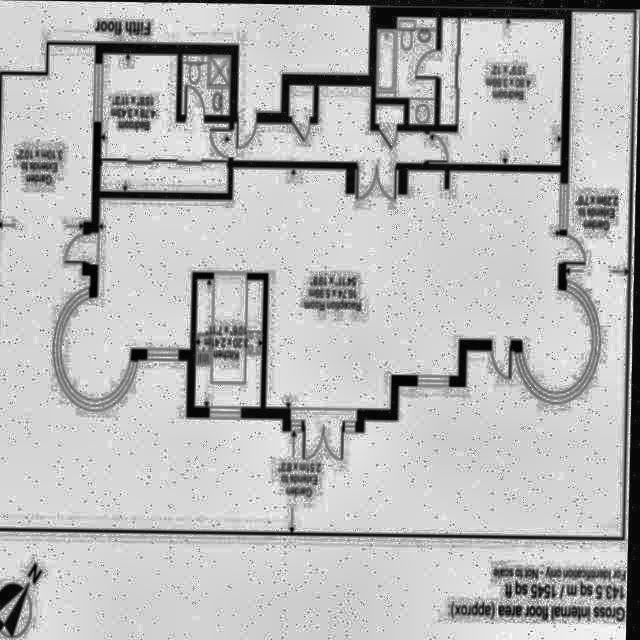room: (61, 163, 355, 420), (356, 161, 595, 408), (431, 15, 564, 164), (100, 52, 232, 193), (234, 81, 427, 163), (195, 279, 265, 407), (376, 15, 438, 123), (181, 54, 231, 115)
